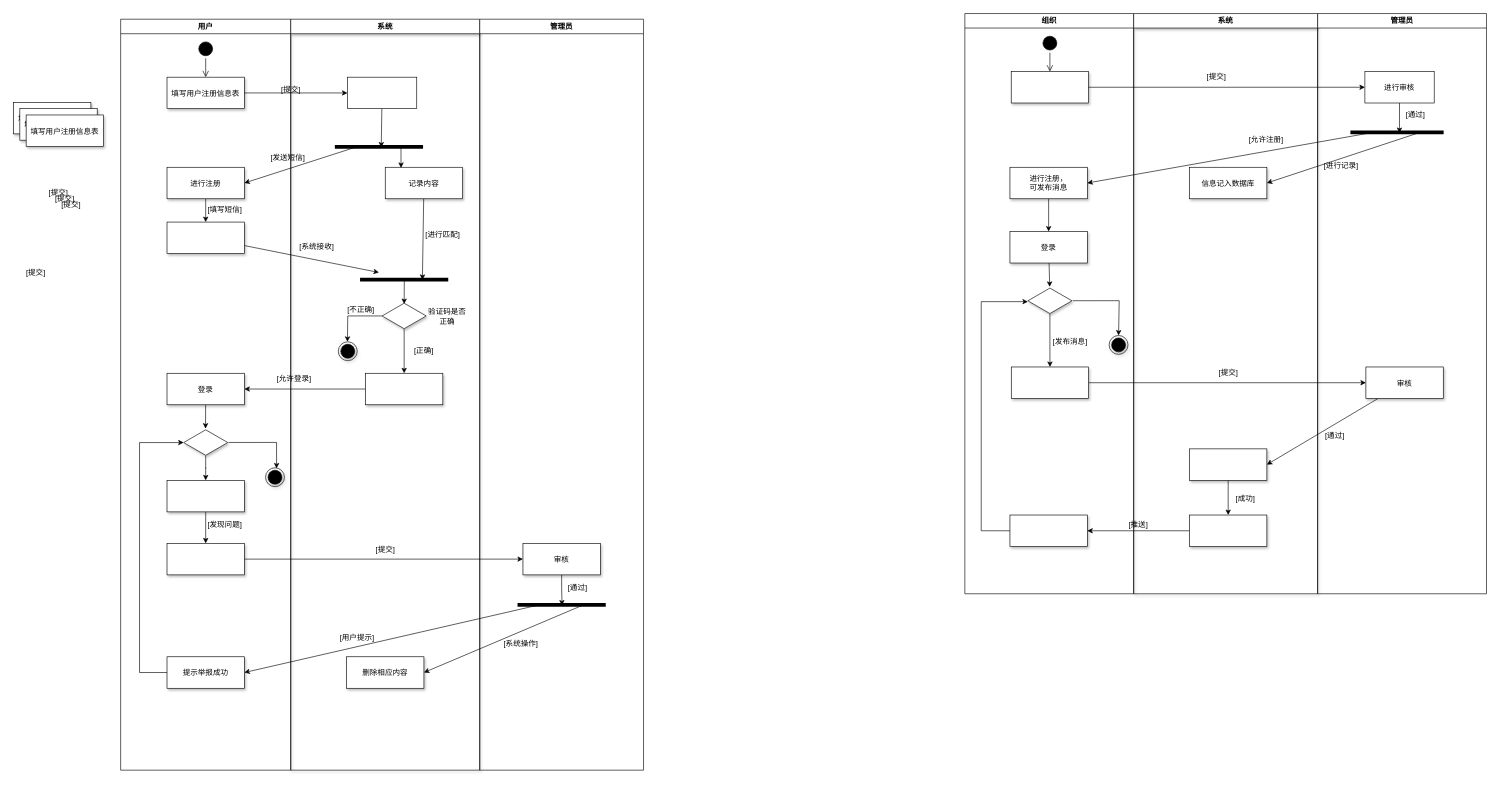
The diagram is 1498 pixels wide and 786 high, and some of its shapes have lost their labels. The centre of each missing label's shape, as x and y in pixels:
"举报" goes at point 206,559.
"发布消息内容" goes at point 1050,383.
"发布消息并推送" goes at point 1228,465.
"填写组织认证表" goes at point 1050,87.
"接收留言与报名消息" goes at point 1049,531.
"提交短信" goes at point 206,238.
"浏览内容" goes at point 206,496.
"获取用户消息与留言" goes at point 1228,531.
"记录信息" goes at point 404,389.
"进行短信验证" goes at point 382,93.
